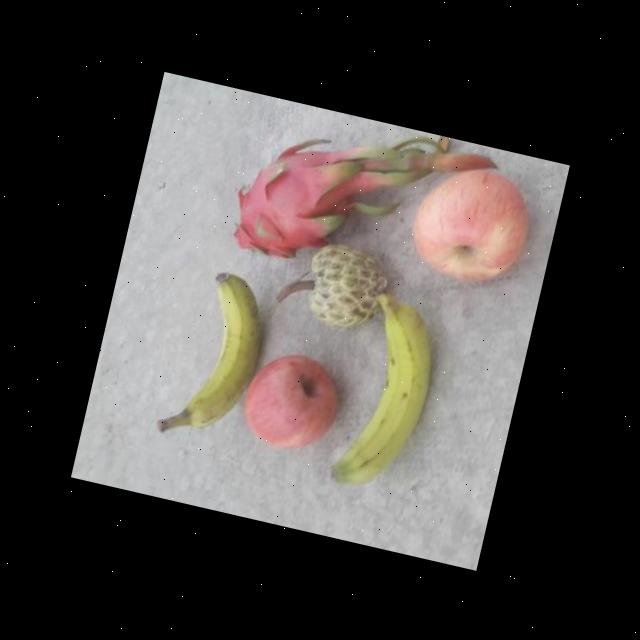Sakya fruit: (287, 232, 403, 343)
apple: (402, 154, 548, 296), (234, 343, 353, 462)
banana: (326, 270, 453, 508), (152, 252, 282, 452)
pitaya: (219, 126, 369, 274)
